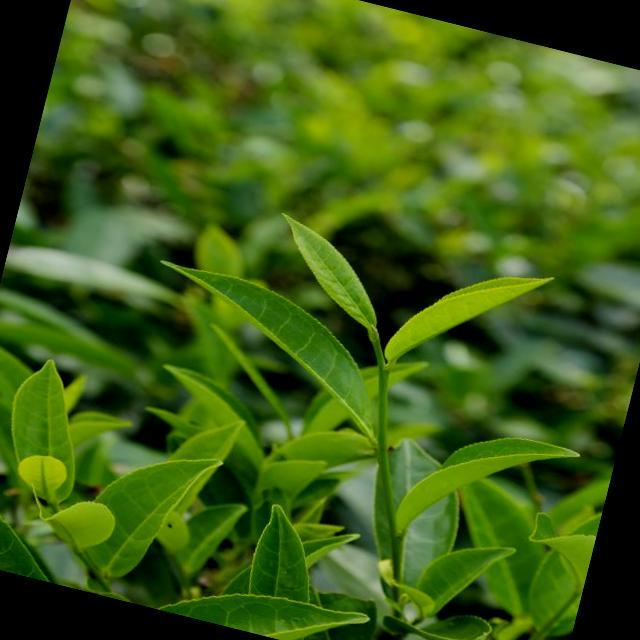Stem: (379, 367, 390, 380)
